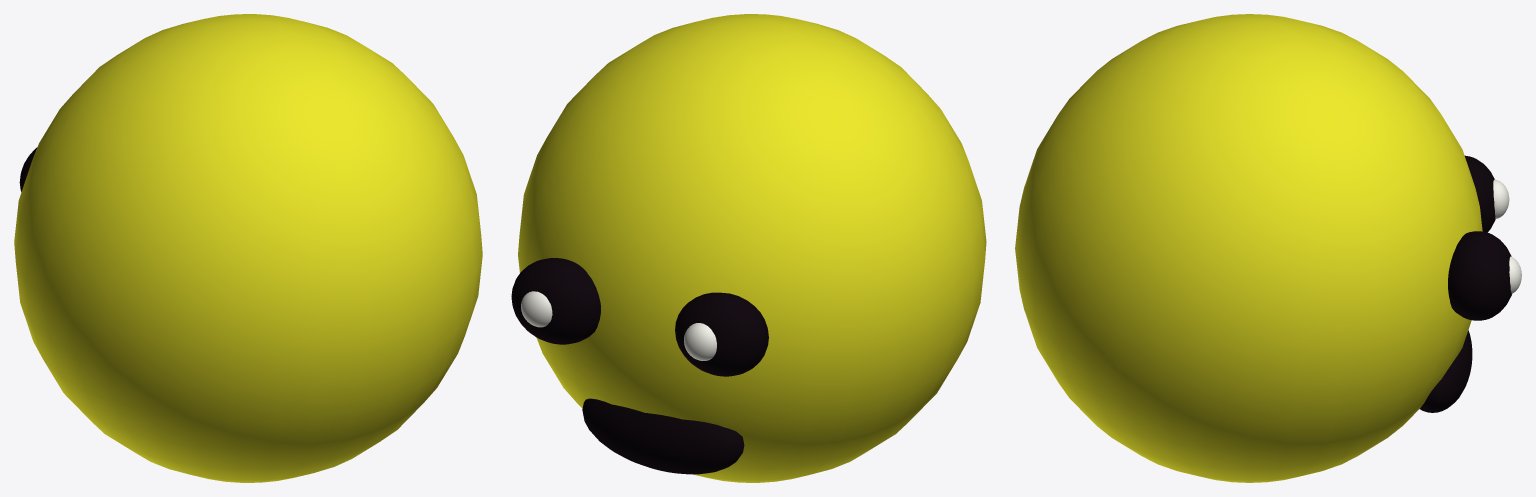
The picture shows the model from 3 angles, left to right: view 1: azimuth 30°, elevation 25°; view 2: azimuth 150°, elevation 25°; view 3: azimuth 270°, elevation 25°; orthographic projection.
Parts seen in each view (by area): view 1: Сфера; view 2: Сфера, Сфера.003, Сфера.002, Сфера.004, Сфера.001, Сфера.005; view 3: Сфера, Сфера.002, Сфера.003, Сфера.004.
Part boxes in pixels (x1,y1,x2,y2): Сфера: (14,14,482,482); Сфера: (518,14,986,482); Сфера.003: (582,398,744,474); Сфера.002: (511,258,600,344); Сфера.004: (675,292,768,376); Сфера.001: (684,323,716,360); Сфера.005: (521,291,552,327); Сфера: (1015,14,1482,482); Сфера.002: (1448,231,1511,320); Сфера.003: (1420,330,1472,412); Сфера.004: (1465,155,1495,232).
Bounding box in the file's own units: 2 × 2 × 2.16.
